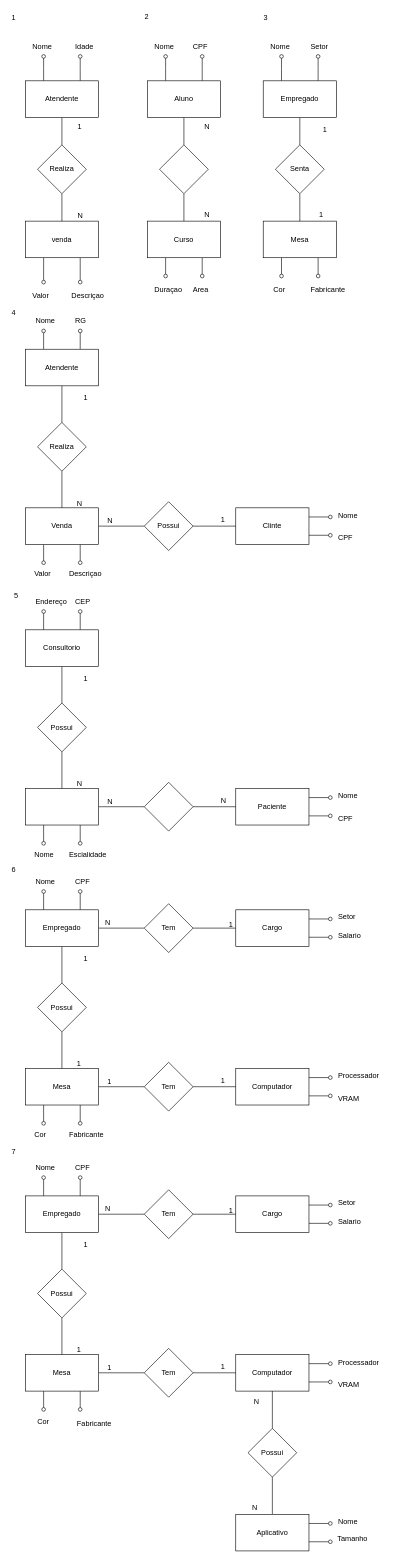
This 396x1562 diagram has some shape labels left out. The shapes that lost their labels are listed below. From the top down, each one's centre as x and y in pixels, then its label:
(183,169): Cursa
(62,806): Medico
(168,806): Atende
